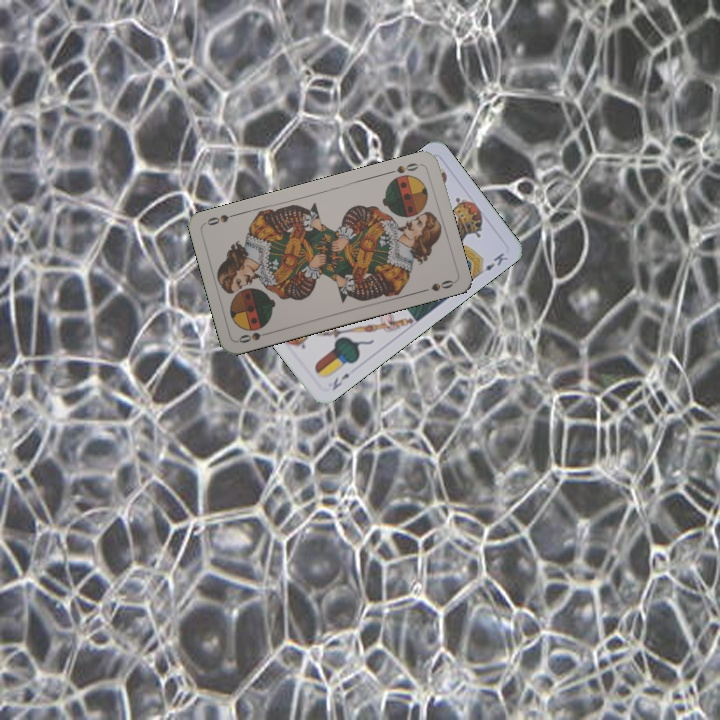EK: (328, 369, 352, 393)
SO: (234, 327, 274, 346), (384, 159, 424, 177)
